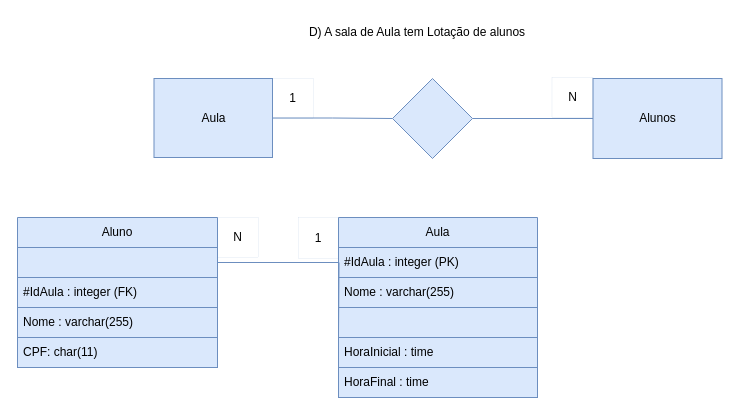
This 740x415 diagram has some shape labels left out. The shapes that lost their labels are listed below. From the top down, each one's box as (x1, y1, x2, y2) in pixels, then its label:
(392, 78, 472, 158): lotação
(16, 246, 218, 278): #IdAluno : integer (PK)
(338, 306, 538, 338): Descrição : varchar (999)
